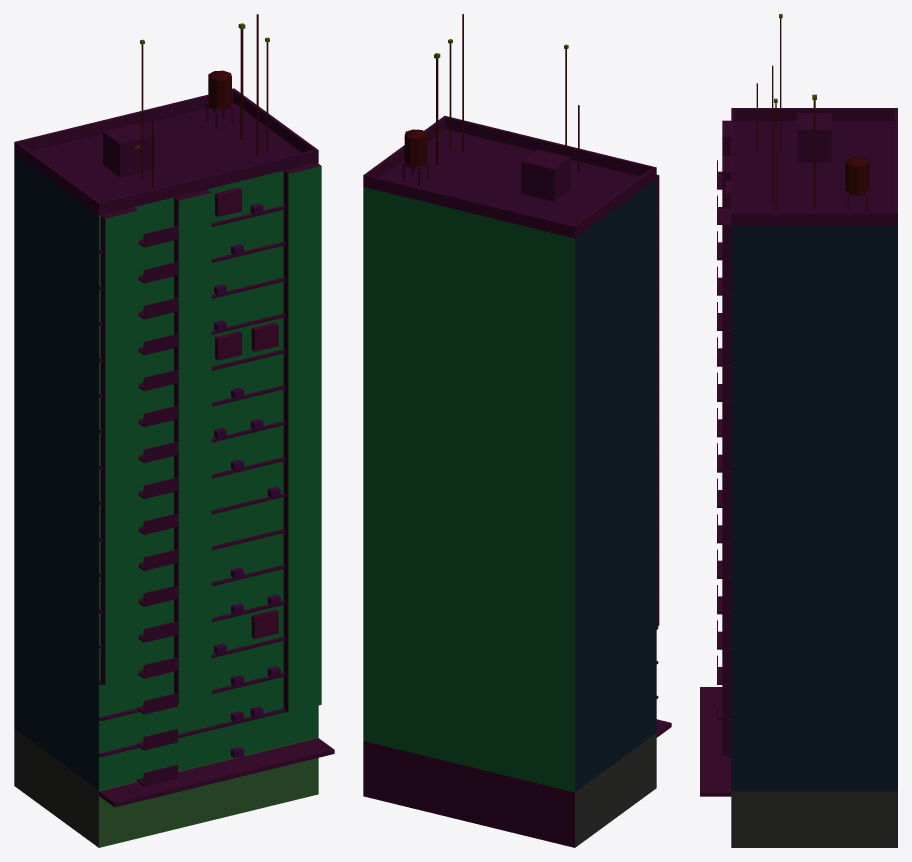
The model's file is slab_a.lod1.glb.
The picture shows the model from 3 angles, left to right: view 1: azimuth 30°, elevation 25°; view 2: azimuth 150°, elevation 25°; view 3: azimuth 270°, elevation 25°; orthographic projection. The views are drawn at different scales.
Visible parts, largest first — view 1: slab_a.lod1; view 2: slab_a.lod1; view 3: slab_a.lod1.
Boxes of the visible parts, box(x1,y1,x2,y2) form: slab_a.lod1: box(14, 14, 334, 847); slab_a.lod1: box(363, 14, 671, 847); slab_a.lod1: box(700, 14, 897, 847).
Bounding box in the file's own units: 19.2 × 64.68 × 15.2.
